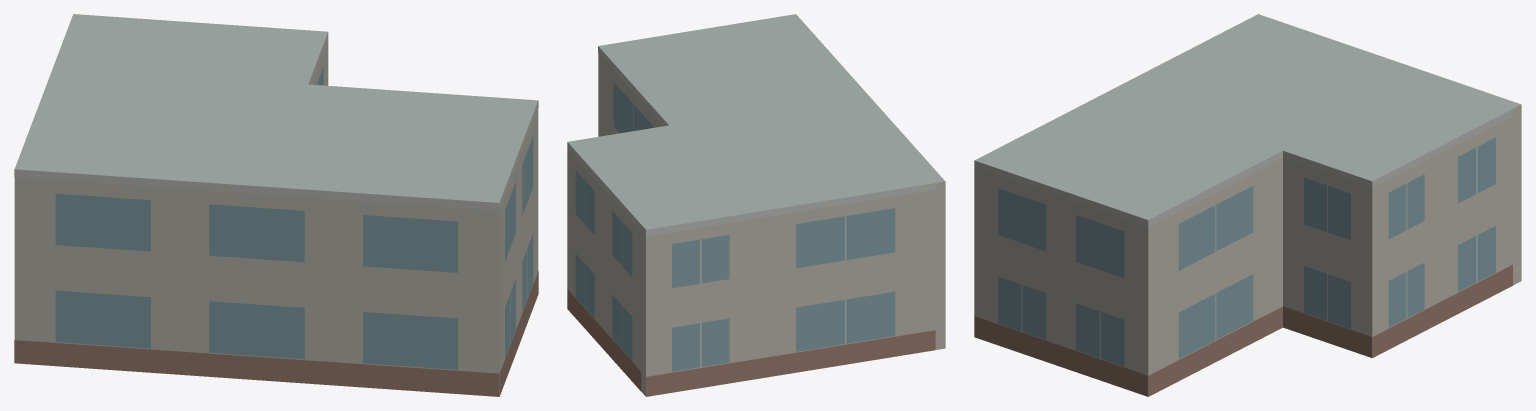
The model's file is survey-upis-32994424.glb.
3 renders of one model, left to right at view 1: azimuth 30°, elevation 25°; view 2: azimuth 150°, elevation 25°; view 3: azimuth 270°, elevation 25°, orthographic. The views are drawn at different scales.
Parts seen in each view (by area): view 1: survey-upis-32994424.tmp; view 2: survey-upis-32994424.tmp; view 3: survey-upis-32994424.tmp.
Boxes of the visible parts, <box> form: survey-upis-32994424.tmp: <box>14,14,538,396</box>; survey-upis-32994424.tmp: <box>567,14,945,396</box>; survey-upis-32994424.tmp: <box>974,14,1521,396</box>.
Size of the model in its own units: 15.27 by 6.1 by 17.12.
